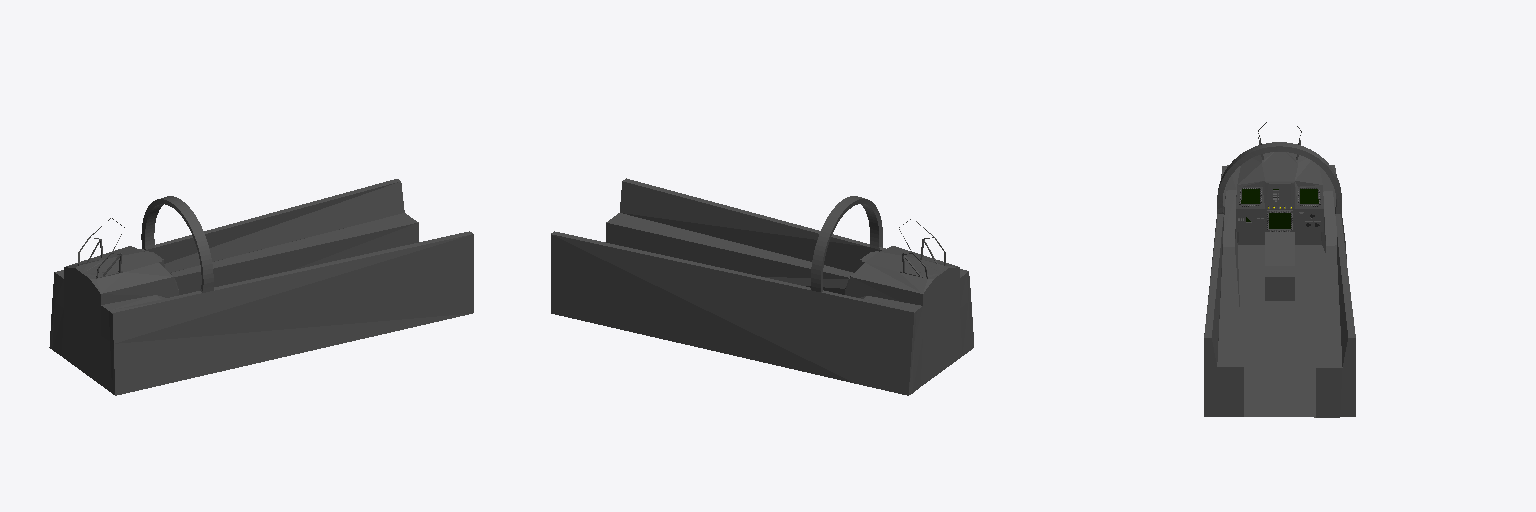
3 views of the same model, side by side, from view 1: azimuth 30°, elevation 25°; view 2: azimuth 150°, elevation 25°; view 3: azimuth 270°, elevation 25° (orthographic).
Parts seen in each view (by area): view 1: Plane_Plane.001; view 2: Plane_Plane.001; view 3: Plane_Plane.001.
Boxes of the visible parts, box(x1,y1,x2,y2) form: Plane_Plane.001: box(49, 179, 473, 395); Plane_Plane.001: box(551, 178, 973, 395); Plane_Plane.001: box(1204, 122, 1355, 417).
Size of the model in its own units: 2.04 by 0.7952 by 0.7451.
1 materials, 1 textured.